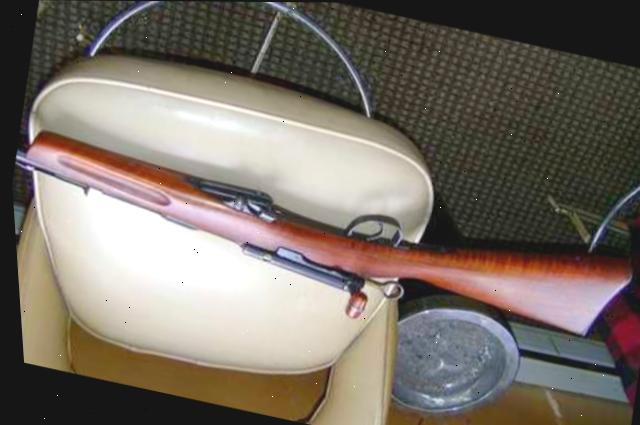rifle: (5, 98, 640, 373)
